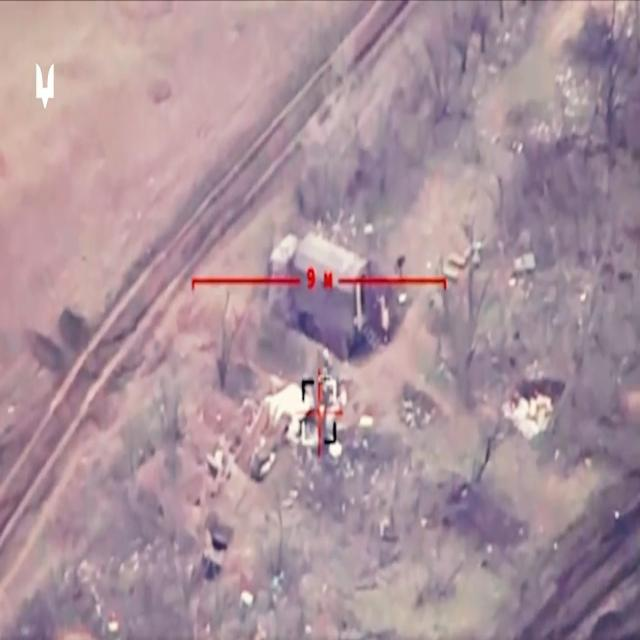cars: (267, 230, 371, 356)
